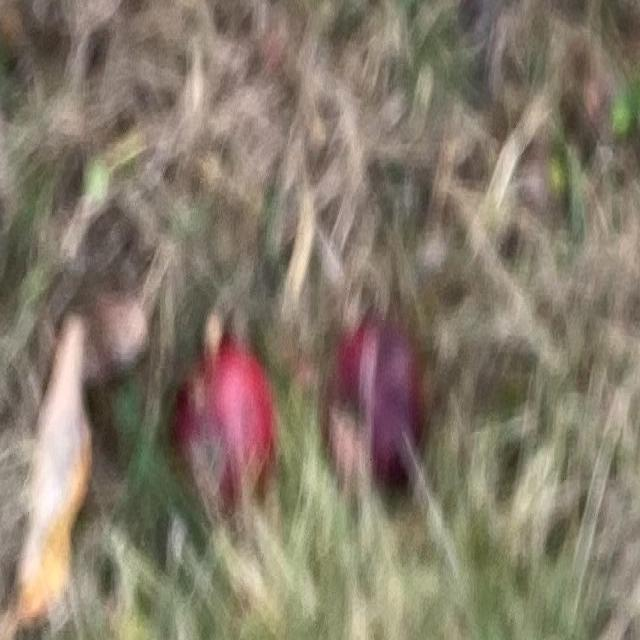Apples: (333, 329, 424, 499), (177, 354, 273, 492)
